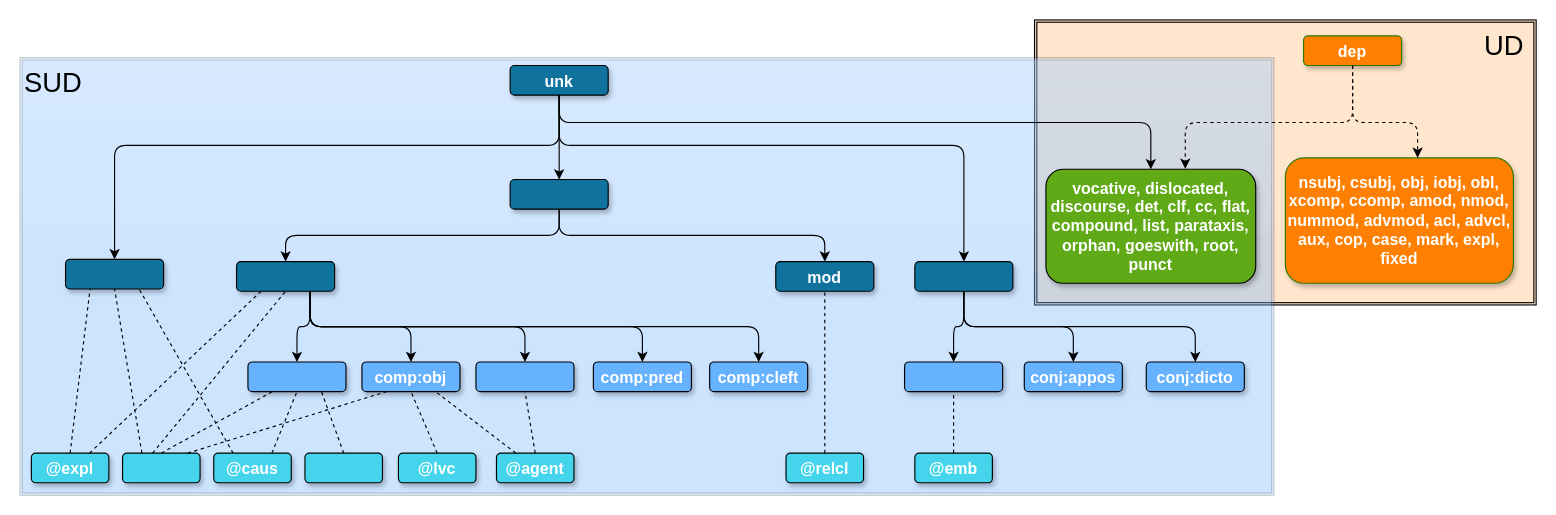
Some shapes in this 1556 by 515 pixel diagram are drawn without their labels. Here are the shapes that lost their labels. From the top down, the centre of each, then its label:
the point at 559,195: udep
the point at 115,275: subj
the point at 286,277: comp
the point at 964,277: conj
the point at 297,378: comp:aux
the point at 525,378: comp:obl
the point at 954,378: conj:coord
the point at 162,469: @pass
the point at 344,469: @tense
